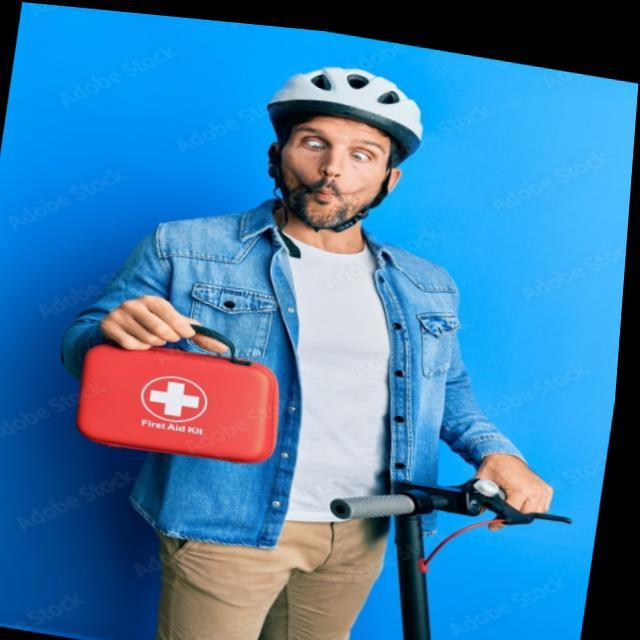Helmet: (256, 56, 429, 236)
